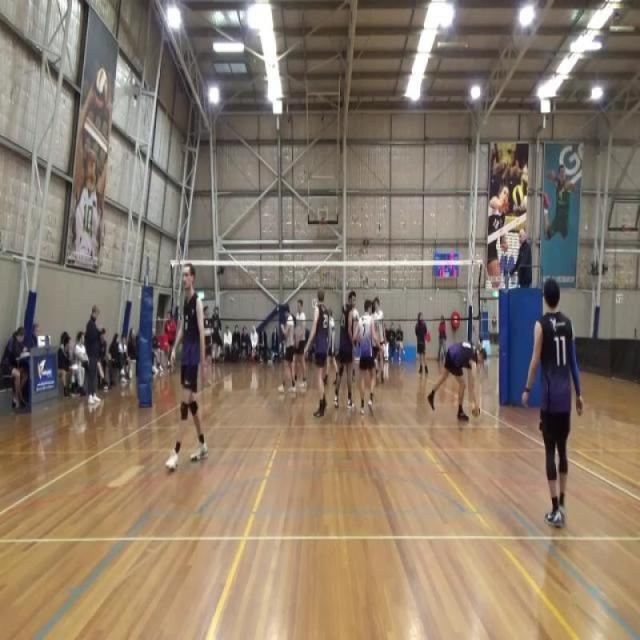volleyball: (94, 70, 107, 114), (512, 184, 524, 208), (471, 402, 482, 419)
